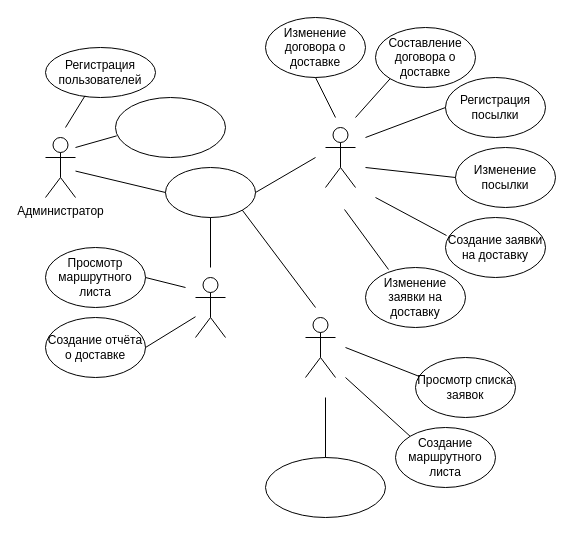
This 573x535 diagram has some shape labels left out. Each missing label, with the centre of its shape:
"Авторизация" belongs at (210,192).
"Курьер" belongs at (210,307).
"Логист" belongs at (320,347).
"Менеджер" belongs at (340,157).
"Редактирование маршрутного листа" belongs at (325,487).
"Редактирование пользователя" belongs at (170,127).
